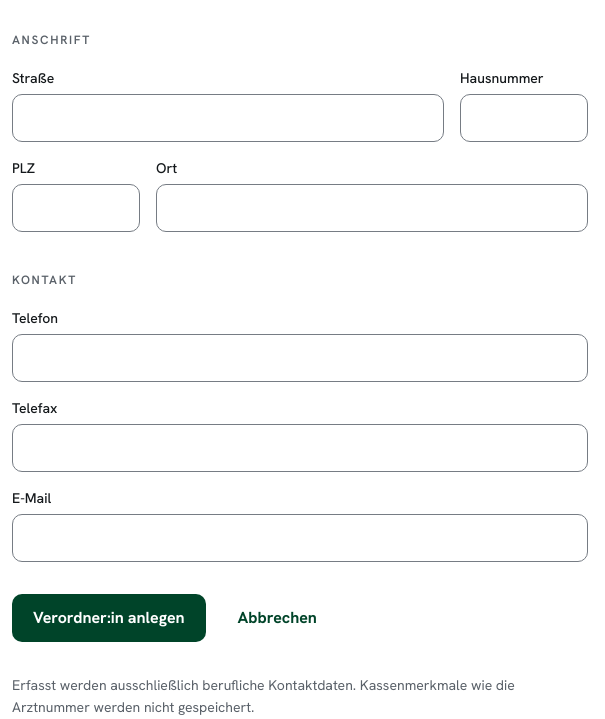
NewPrescriberPage › verlangt einen Nachnamen und schreibt ohne ihn nicht
(page scrolled)
Click the button "Verordner:in anlegen".
click(109, 618)  # box [12,594,206,642]
(page scrolled)
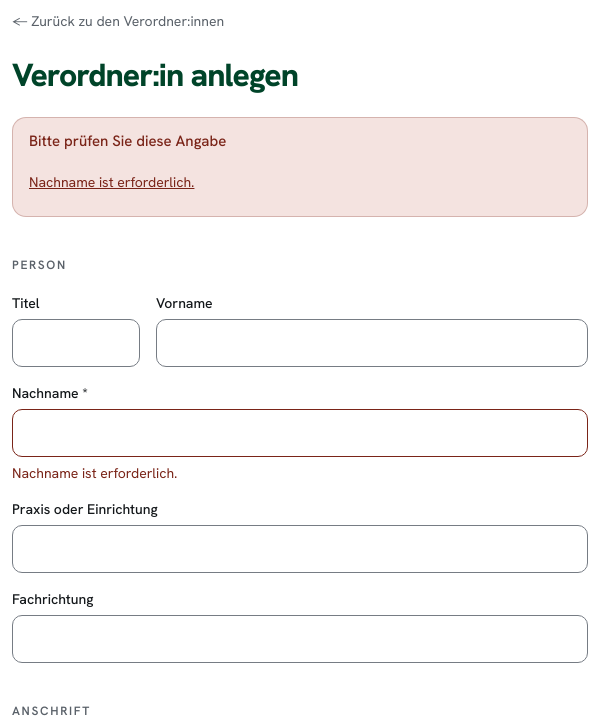
Now the number of links "Nachname ist erforderlich." is 2, box [29,173,194,191]; [12,464,177,482]
